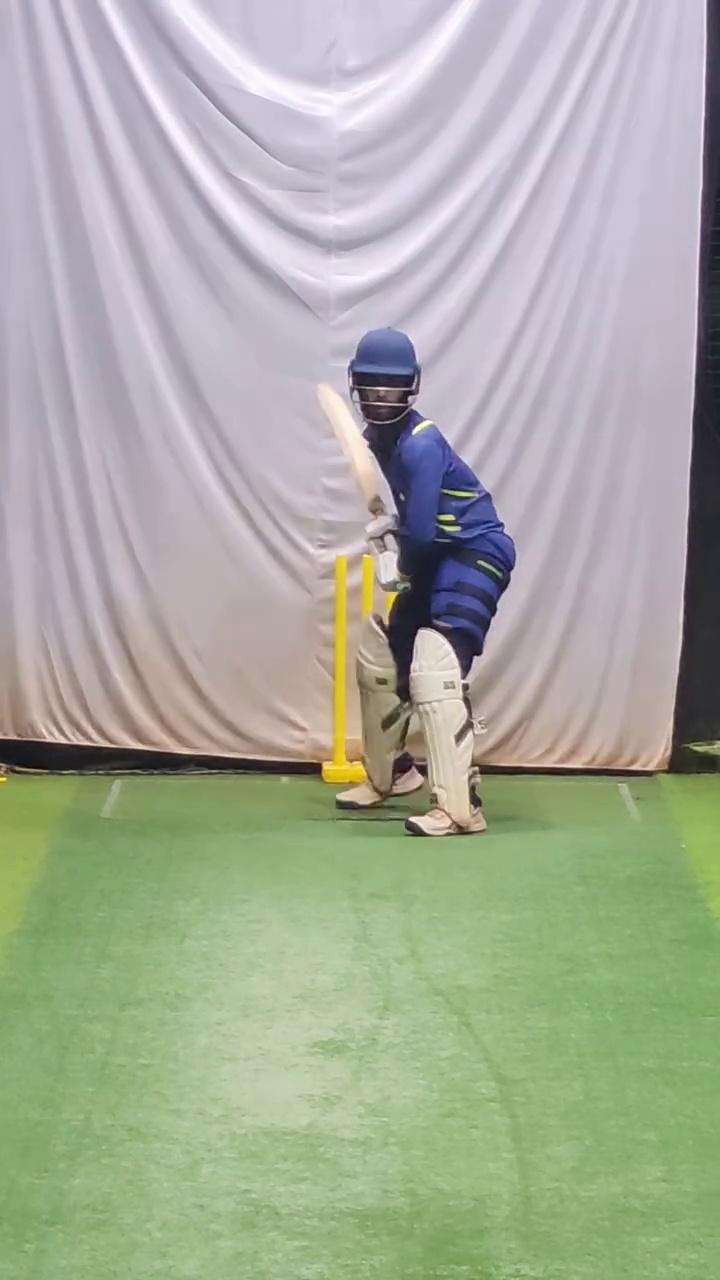bat: (308, 372, 394, 523)
